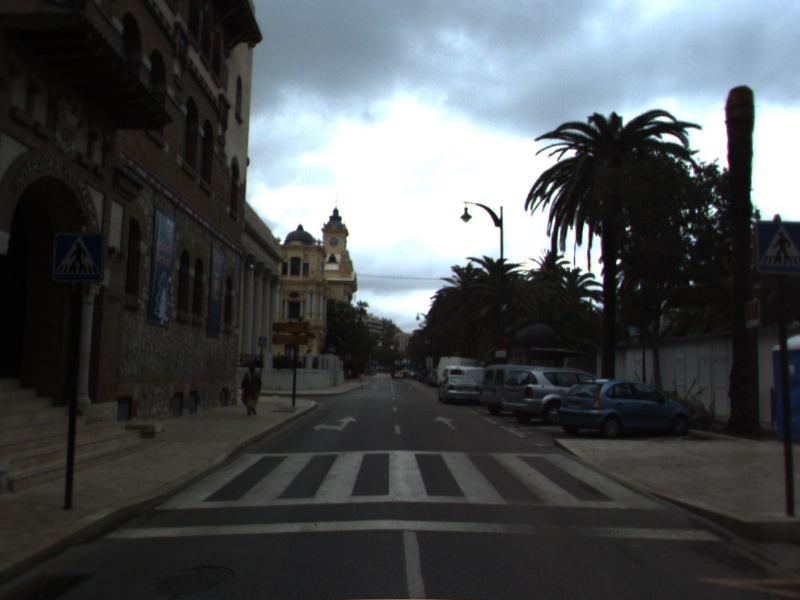STRAIGHT: (432, 414, 460, 432)
STRAIGHT_LEFT: (310, 414, 359, 434)
